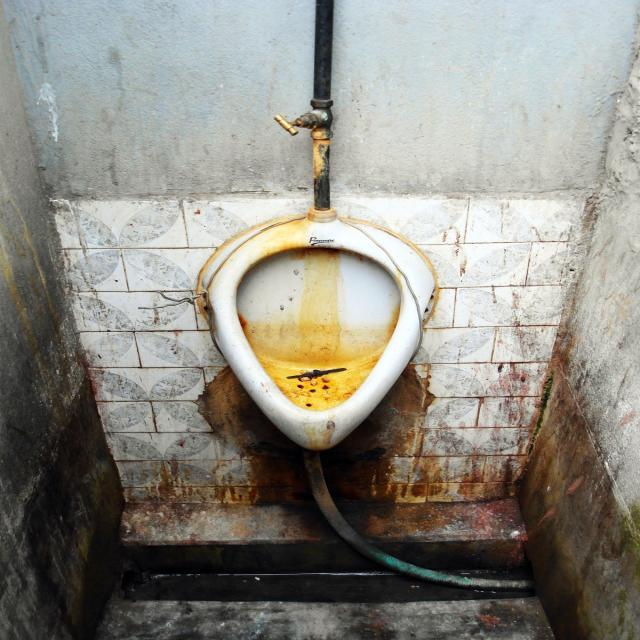dirty_floor: (2, 1, 637, 636), (50, 190, 591, 526), (194, 209, 436, 453), (232, 243, 403, 413), (283, 364, 348, 385)
